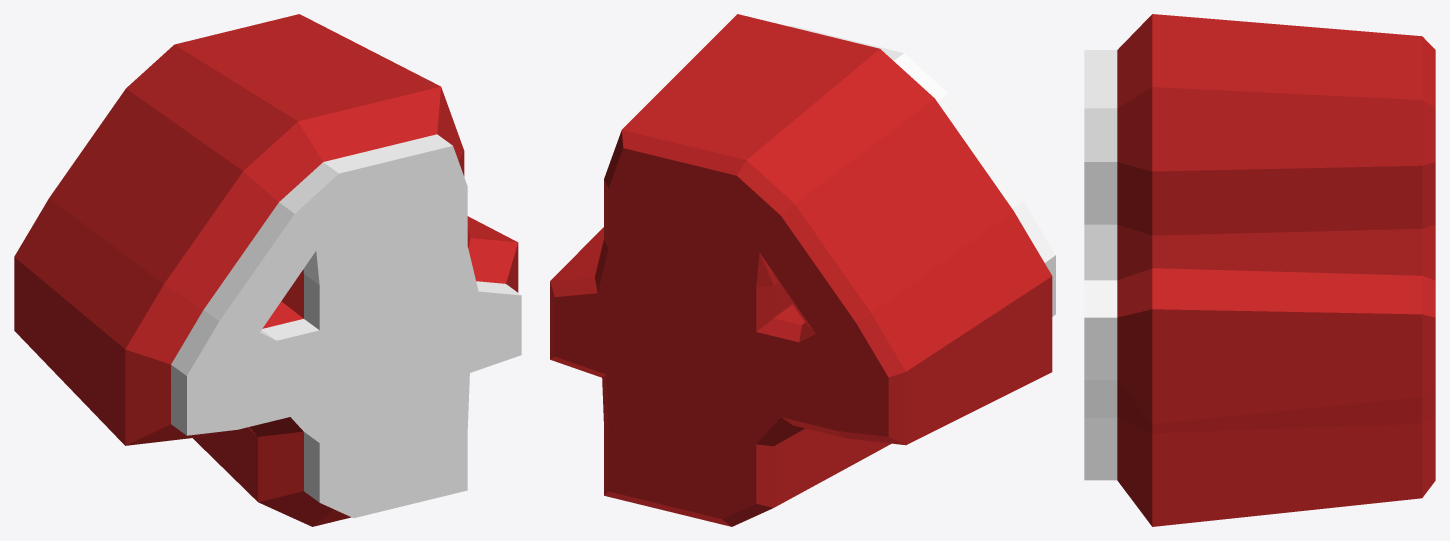
3 views of the same model, side by side, from view 1: azimuth 30°, elevation 25°; view 2: azimuth 150°, elevation 25°; view 3: azimuth 270°, elevation 25° (orthographic). The views are drawn at different scales.
Parts seen in each view (by area): view 1: MoText_1; view 2: MoText_1; view 3: MoText_1.
Part boxes in pixels (box(x1,y1,x2,y2)): MoText_1: box(14, 14, 521, 526); MoText_1: box(550, 14, 1055, 526); MoText_1: box(1084, 14, 1435, 526).
Bounding box in the file's own units: 176 × 175 × 130.
